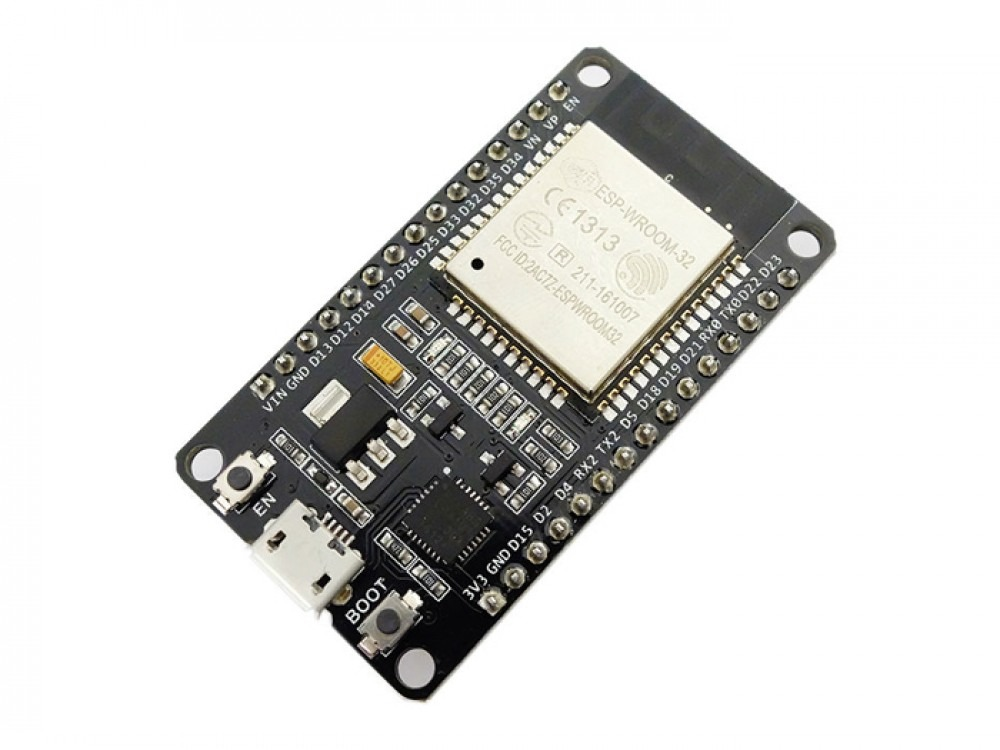ESP32-WROOM: (153, 35, 856, 750)
